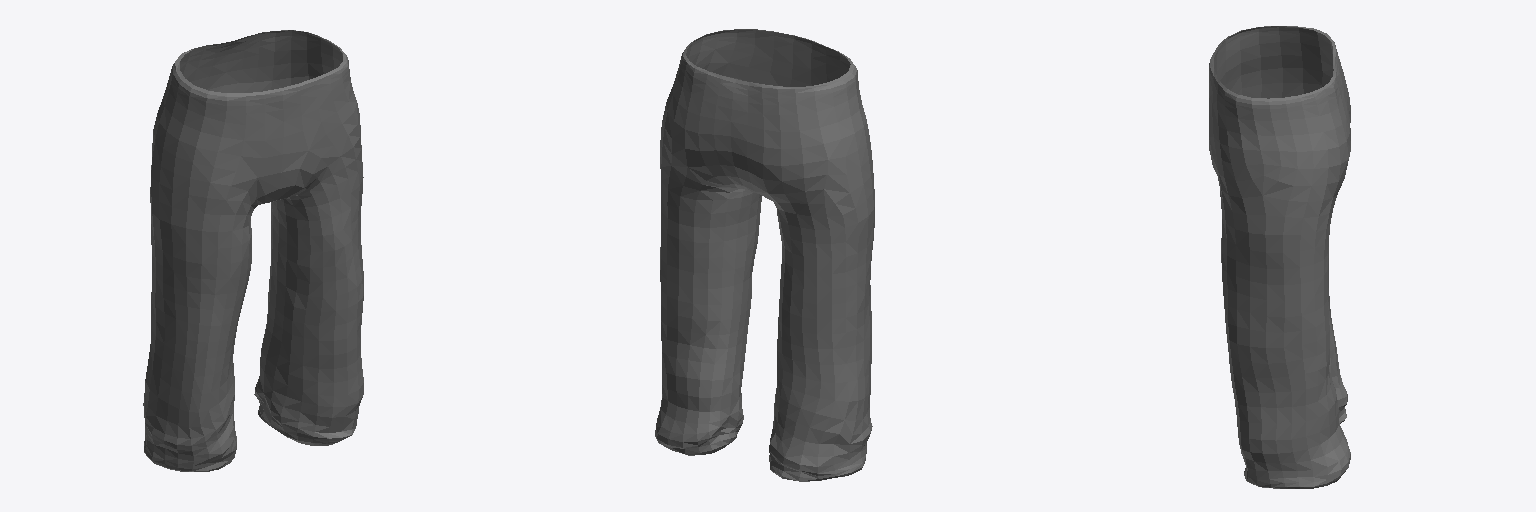
The model's file is LowPoly_Guarda_Calca.obj.
The picture shows the model from 3 angles: view 1: azimuth 30°, elevation 25°; view 2: azimuth 150°, elevation 25°; view 3: azimuth 270°, elevation 25°; orthographic projection.
Parts seen in each view (by area): view 1: LowPoly_Guarda_Calca; view 2: LowPoly_Guarda_Calca; view 3: LowPoly_Guarda_Calca.
Part boxes in pixels (bbox=[...]): LowPoly_Guarda_Calca: bbox=[143, 30, 363, 471]; LowPoly_Guarda_Calca: bbox=[655, 29, 874, 481]; LowPoly_Guarda_Calca: bbox=[1209, 26, 1350, 488].
Size of the model in its own units: 33.89 by 63.83 by 20.92.